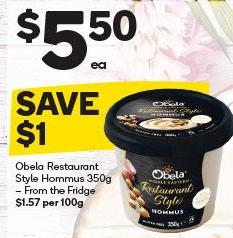description_block: (5, 161, 115, 198)
price_main: (9, 4, 146, 76)
product_image_block: (106, 86, 232, 233)
promo_text_block: (2, 84, 123, 158)
unit_price_block: (9, 196, 91, 211)
